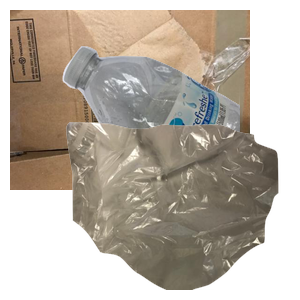cardboard: (10, 10, 250, 190)
glass: (94, 184, 253, 300)
plastic: (60, 44, 300, 224)
trash: (64, 120, 300, 300)
